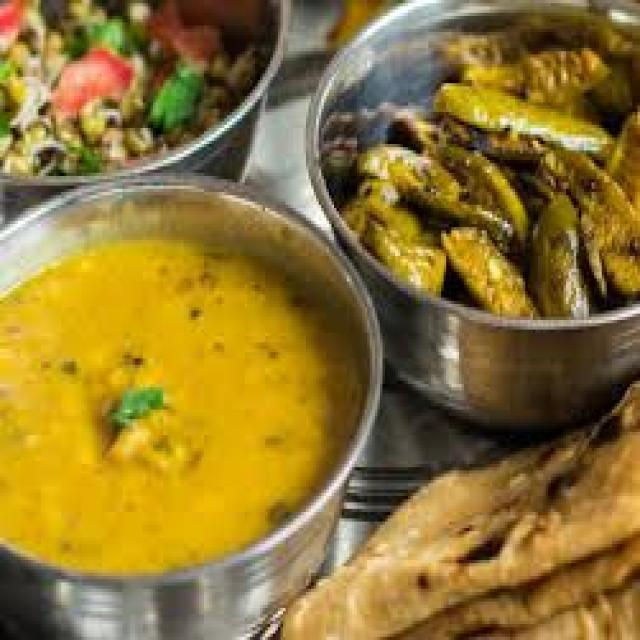dal: (17, 240, 292, 500)
veg-fry: (329, 57, 620, 298)
